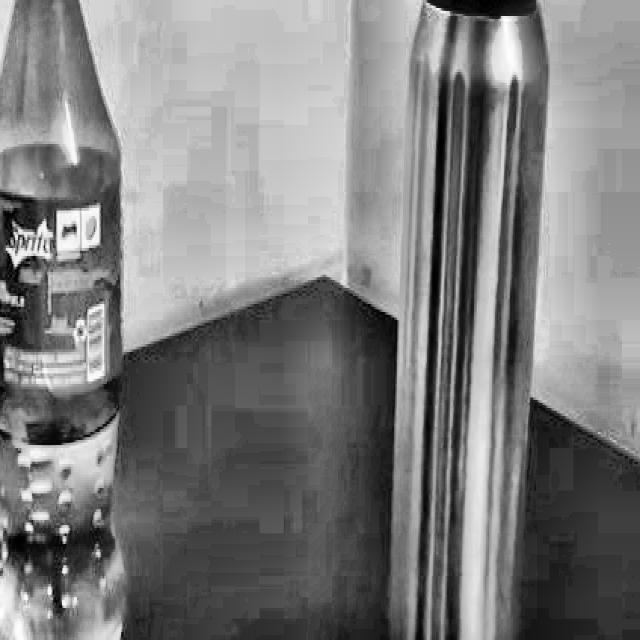bottle: (383, 0, 554, 640)
